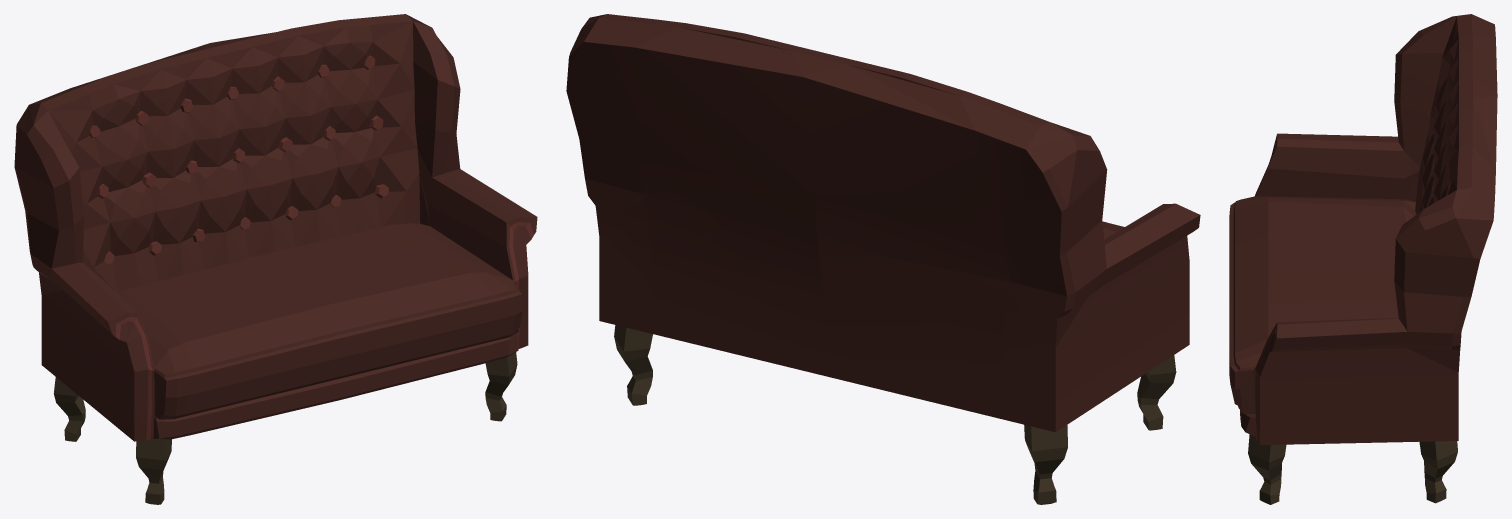
Rendered from SM_Prop_OfficeChair_02.obj.
3 renders of one model, left to right at view 1: azimuth 30°, elevation 25°; view 2: azimuth 150°, elevation 25°; view 3: azimuth 270°, elevation 25°, orthographic. The views are drawn at different scales.
Visible parts, largest first — view 1: SM_Prop_OfficeChair_02_0; view 2: SM_Prop_OfficeChair_02_0; view 3: SM_Prop_OfficeChair_02_0.
Boxes of the visible parts, x1,y1,x2,y2 form: SM_Prop_OfficeChair_02_0: (14,14,537,504); SM_Prop_OfficeChair_02_0: (566,14,1200,504); SM_Prop_OfficeChair_02_0: (1229,14,1497,504).
Bounding box in the file's own units: 1.69 × 1.27 × 0.9319.
Materials: 1 (1 with a texture image).
